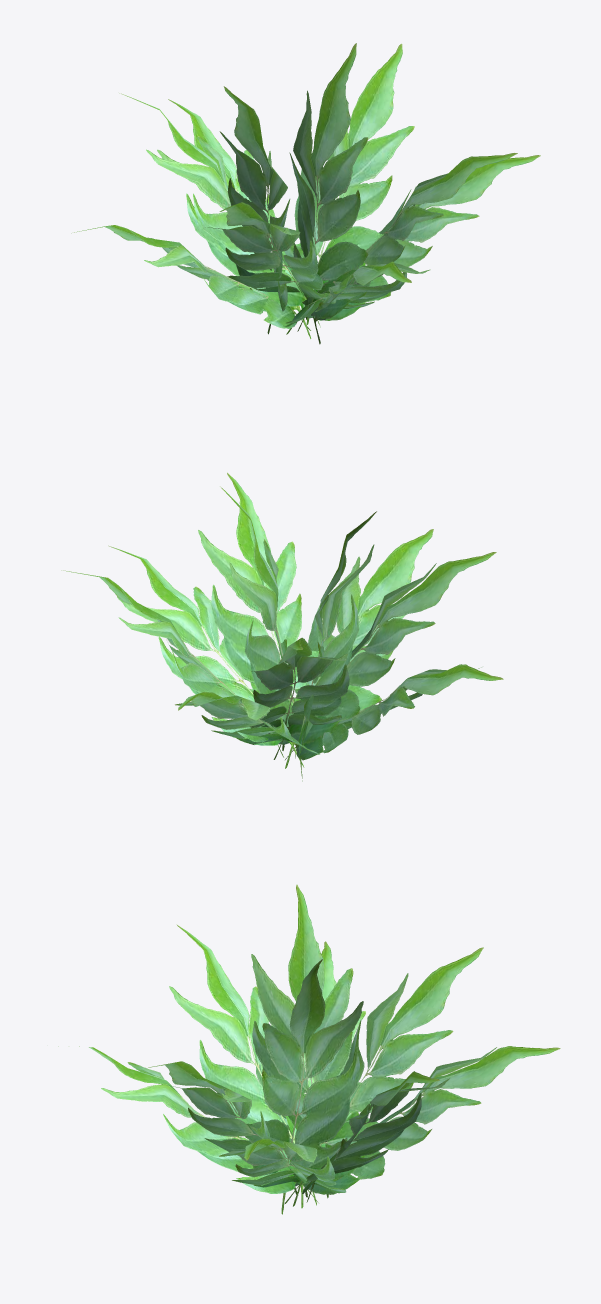
The model's file is Leaf.FBX.
The picture shows the model from 3 angles, top to bottom: view 1: azimuth 30°, elevation 25°; view 2: azimuth 150°, elevation 25°; view 3: azimuth 270°, elevation 25°; orthographic projection. The views are drawn at different scales.
Parts seen in each view (by area): view 1: Plane009, Plane007, Plane005, Plane010, Plane008, Plane006, Plane002, Plane004, Plane003, Plane001; view 2: Plane008, Plane005, Plane002, Plane006, Plane001, Plane009, Plane004, Plane010, Plane007, Plane003; view 3: Plane009, Plane006, Plane005, Plane010, Plane003, Plane008, Plane001, Plane007, Plane002, Plane004.
Part boxes in pixels (x1=…): Plane009: x1=289, y1=43, x2=368, y2=344; Plane007: x1=284, y1=43, x2=414, y2=324; Plane005: x1=205, y1=202, x2=336, y2=319; Plane010: x1=219, y1=86, x2=290, y2=334; Plane008: x1=297, y1=153, x2=517, y2=331; Plane006: x1=119, y1=93, x2=320, y2=327; Plane002: x1=286, y1=155, x2=540, y2=334; Plane004: x1=71, y1=225, x2=310, y2=330; Plane003: x1=157, y1=99, x2=313, y2=338; Plane001: x1=284, y1=261, x2=430, y2=326; Plane008: x1=198, y1=472, x2=318, y2=705; Plane005: x1=273, y1=552, x2=496, y2=759; Plane002: x1=108, y1=545, x2=304, y2=767; Plane006: x1=249, y1=637, x2=349, y2=750; Plane001: x1=285, y1=529, x2=433, y2=768; Plane009: x1=220, y1=486, x2=297, y2=758; Plane004: x1=285, y1=664, x2=503, y2=760; Plane010: x1=298, y1=511, x2=376, y2=781; Plane007: x1=61, y1=570, x2=283, y2=757; Plane003: x1=175, y1=692, x2=319, y2=754; Plane009: x1=245, y1=959, x2=363, y2=1214; Plane006: x1=293, y1=947, x2=483, y2=1206; Plane005: x1=169, y1=924, x2=316, y2=1205; Plane010: x1=251, y1=884, x2=361, y2=1198; Plane003: x1=284, y1=1046, x2=560, y2=1204; Plane008: x1=148, y1=1061, x2=306, y2=1195; Plane001: x1=58, y1=1046, x2=318, y2=1202; Plane007: x1=302, y1=1071, x2=449, y2=1202; Plane002: x1=219, y1=1138, x2=346, y2=1197; Plane004: x1=255, y1=941, x2=365, y2=1208.
Bounding box in the file's own units: 147 × 88.13 × 141.
